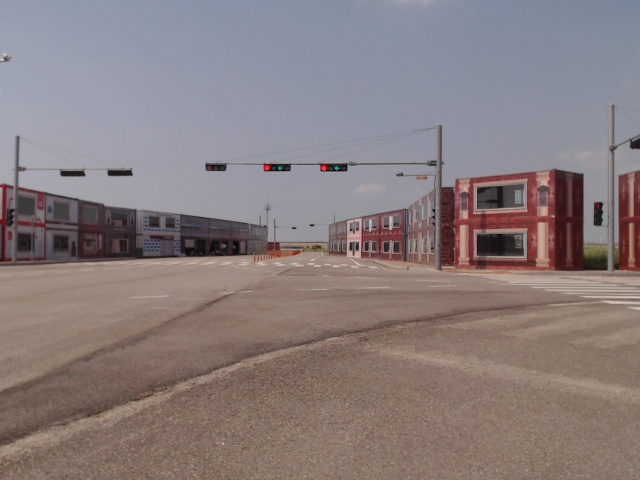left_green_4: (264, 163, 291, 172), (320, 165, 347, 172)
